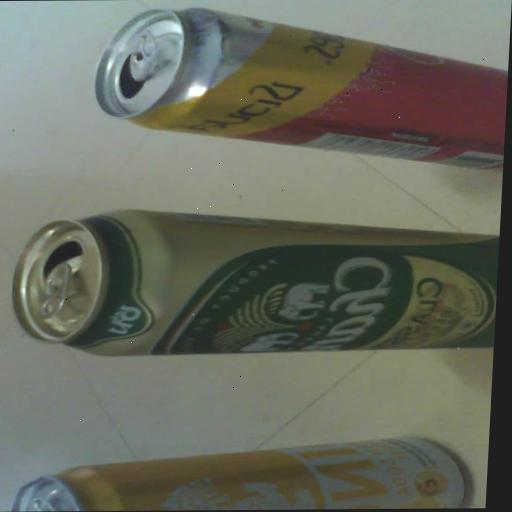canned: (0, 197, 502, 361), (75, 0, 512, 179), (0, 415, 481, 512)
